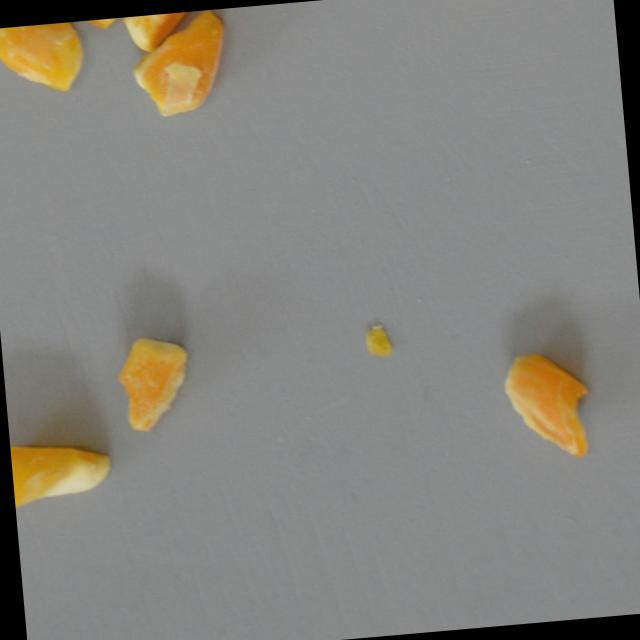dañado: (492, 342, 601, 466), (121, 7, 234, 122), (109, 329, 198, 436), (9, 428, 119, 509), (0, 19, 92, 100), (114, 8, 219, 54), (48, 15, 141, 35)
